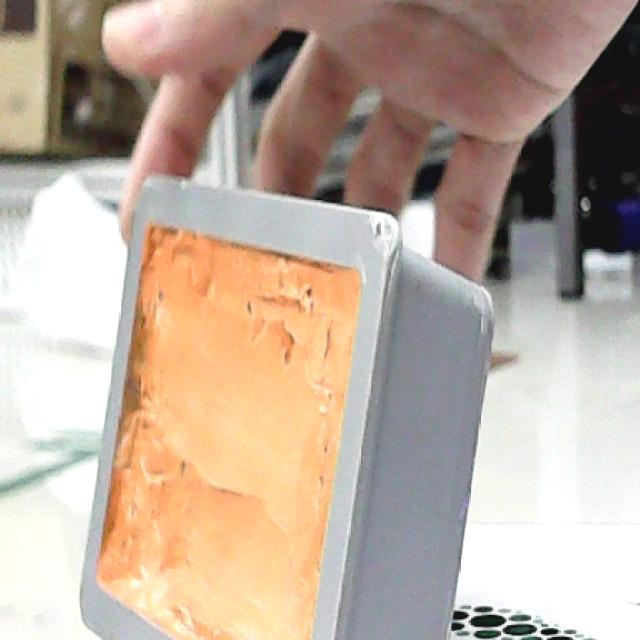block: (79, 161, 495, 640)
